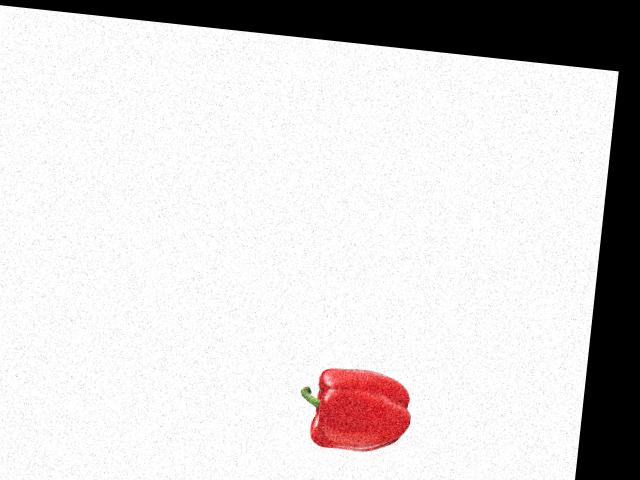bell_pepper: (294, 359, 418, 462)
